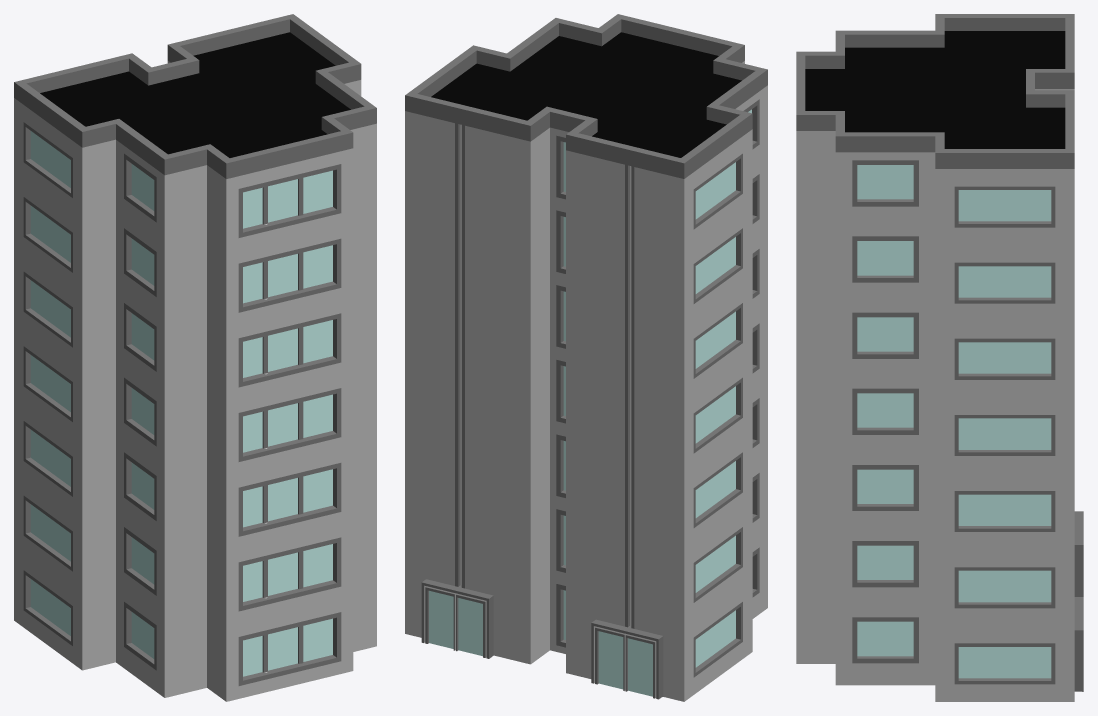
Rendered from BlockOfFlats5.fbx.
3 renders of one model, left to right at view 1: azimuth 30°, elevation 25°; view 2: azimuth 150°, elevation 25°; view 3: azimuth 270°, elevation 25°, orthographic.
Visible parts, largest first — view 1: BlockOfFlats6; view 2: BlockOfFlats6; view 3: BlockOfFlats6.
Part boxes in pixels (x1=…): BlockOfFlats6: x1=14, y1=14, x2=376, y2=701; BlockOfFlats6: x1=405, y1=14, x2=767, y2=701; BlockOfFlats6: x1=796, y1=14, x2=1083, y2=701.
Bounding box in the file's own units: 6258 × 11545 × 5475.
